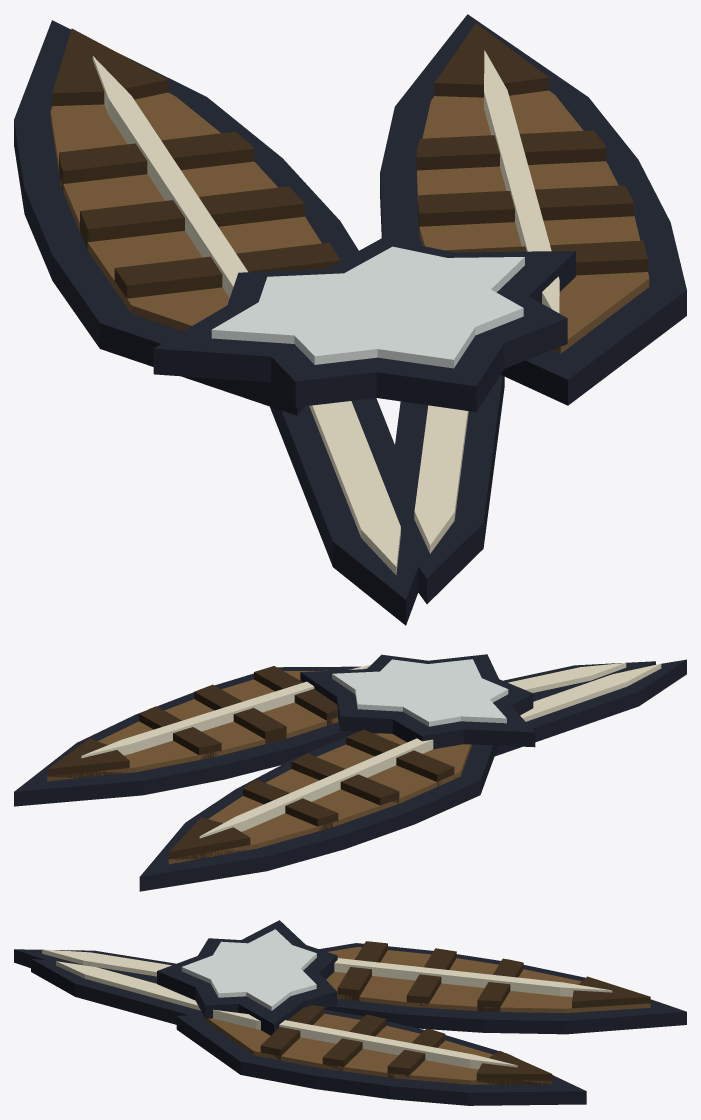
The model's file is hawk_feather.fbx.
3 renders of one model, top to bottom at view 1: azimuth 30°, elevation 25°; view 2: azimuth 150°, elevation 25°; view 3: azimuth 270°, elevation 25°, orthographic. The views are drawn at different scales.
Visible parts, largest first — view 1: hawk_feather; view 2: hawk_feather; view 3: hawk_feather.
Boxes of the visible parts, left/top/right/bottom form: hawk_feather: left=14, top=14, right=686, bottom=625; hawk_feather: left=14, top=654, right=686, bottom=891; hawk_feather: left=14, top=920, right=686, bottom=1105.
Bounding box in the file's own units: 0.7609 × 0.11 × 1.38.
Materials: 1 (1 with a texture image).
